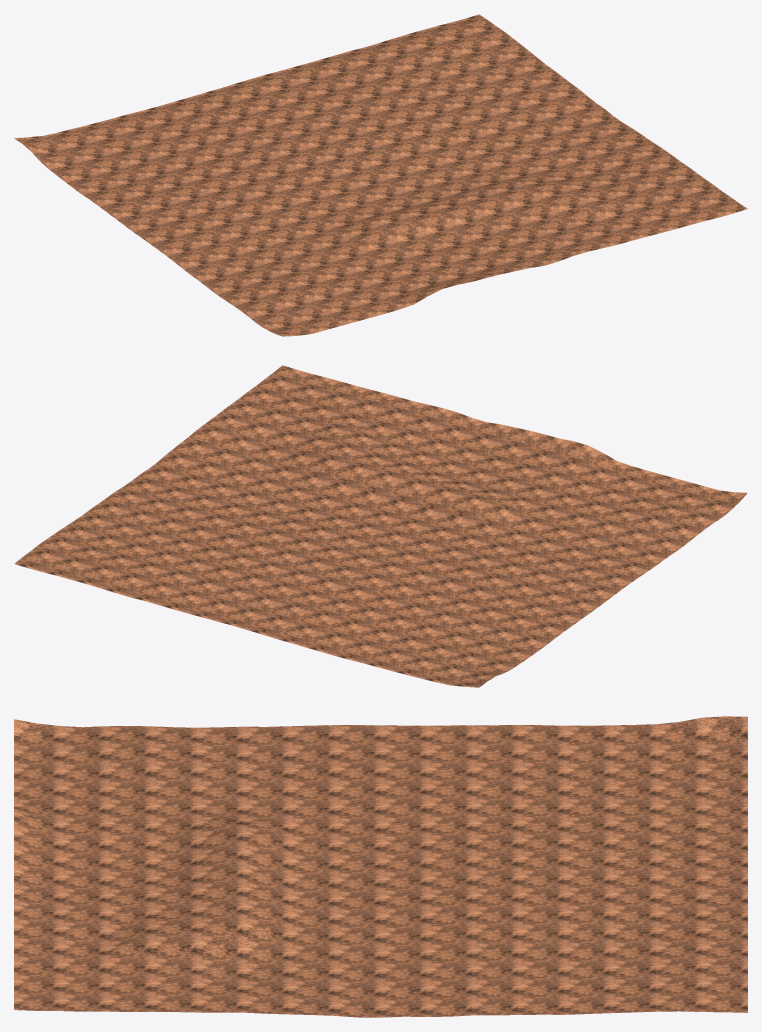
Rendered from terrain_07_22.dae.
3 renders of one model, top to bottom at view 1: azimuth 30°, elevation 25°; view 2: azimuth 150°, elevation 25°; view 3: azimuth 270°, elevation 25°, orthographic. The views are drawn at different scales.
Parts seen in each view (by area): view 1: terrain_07_22-node; view 2: terrain_07_22-node; view 3: terrain_07_22-node.
Part boxes in pixels (x1,y1,x2,y2): terrain_07_22-node: (14,14,747,336); terrain_07_22-node: (14,365,747,687); terrain_07_22-node: (14,716,747,1017).
Size of the model in its own units: 128 by 128 by 5.38.
1 material, 1 textured.
